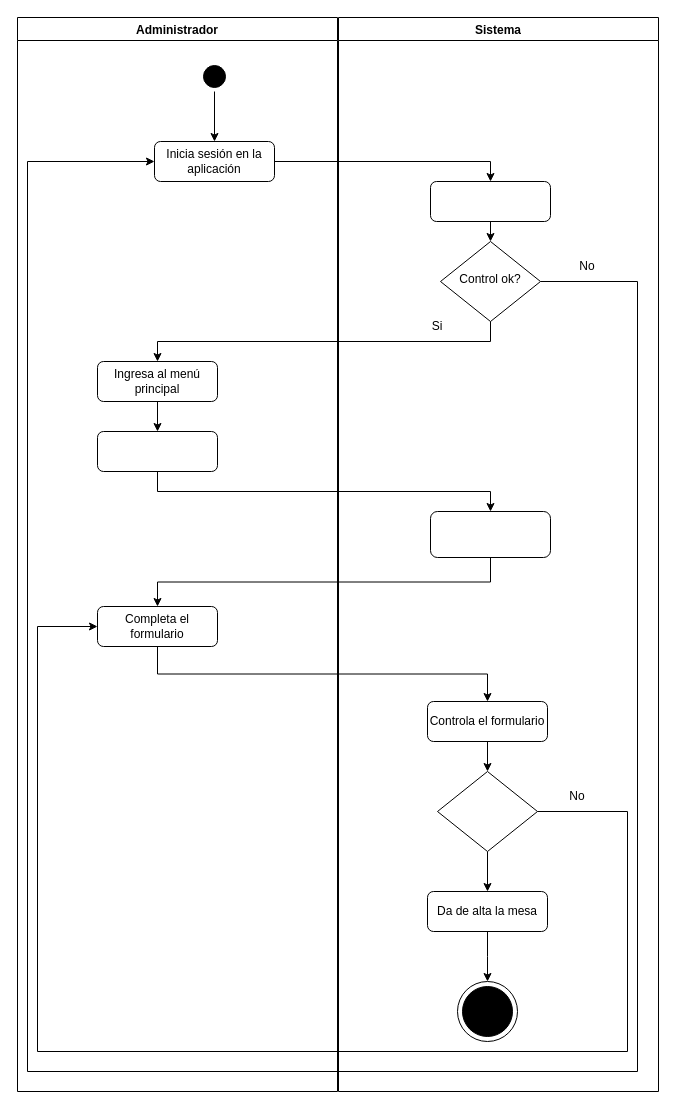
This 676x1109 diagram has some shape labels left out. Here are the shapes that lost their labels. From the top down, the box of each, then its label:
(430, 180, 550, 222): Controla los datos
(96, 430, 218, 472): Selecciona la opción "Alta Mesa"
(430, 510, 550, 558): Muestra el formulario para dar de alta una mesa
(436, 770, 538, 852): Formulario ok?
